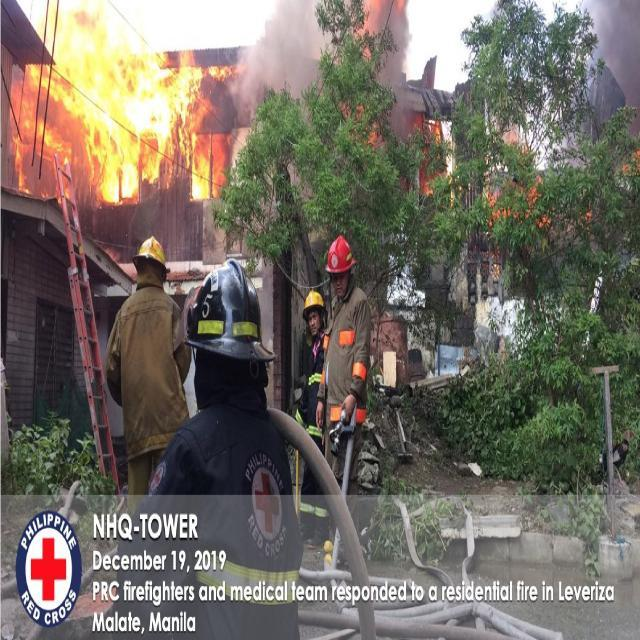Fire: (11, 0, 180, 195), (184, 124, 218, 208)
Smoke: (244, 1, 322, 119), (588, 0, 639, 116), (368, 0, 416, 94)
